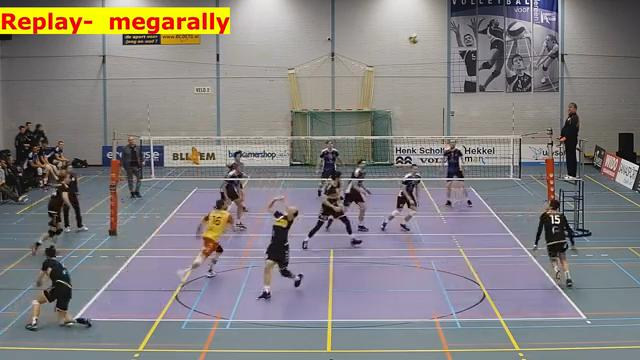Player: (25, 247, 91, 330), (302, 171, 361, 249), (178, 199, 232, 283), (534, 199, 574, 286), (31, 170, 71, 254), (381, 164, 421, 230), (344, 160, 370, 231), (220, 163, 245, 229), (318, 141, 341, 196), (228, 150, 246, 203), (443, 140, 463, 181)
Set: (257, 191, 307, 307)
ball: (408, 35, 420, 44)
